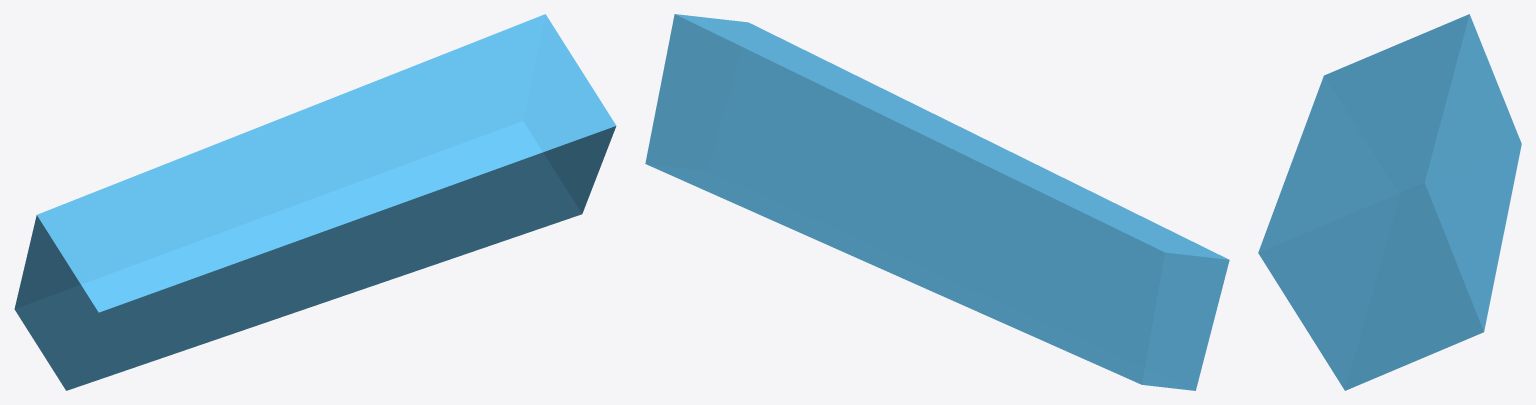
Rendered from Event_420107950_HErechit_23.fbx.
3 renders of one model, left to right at view 1: azimuth 30°, elevation 25°; view 2: azimuth 150°, elevation 25°; view 3: azimuth 270°, elevation 25°, orthographic. The views are drawn at different scales.
Visible parts, largest first — view 1: Model; view 2: Model; view 3: Model.
Part boxes in pixels (left/top/right/bottom): Model: left=14, top=14, right=616, bottom=390; Model: left=645, top=14, right=1229, bottom=390; Model: left=1258, top=14, right=1521, bottom=390.
Bounding box in the file's own units: 1.46 × 0.707 × 0.5759.
